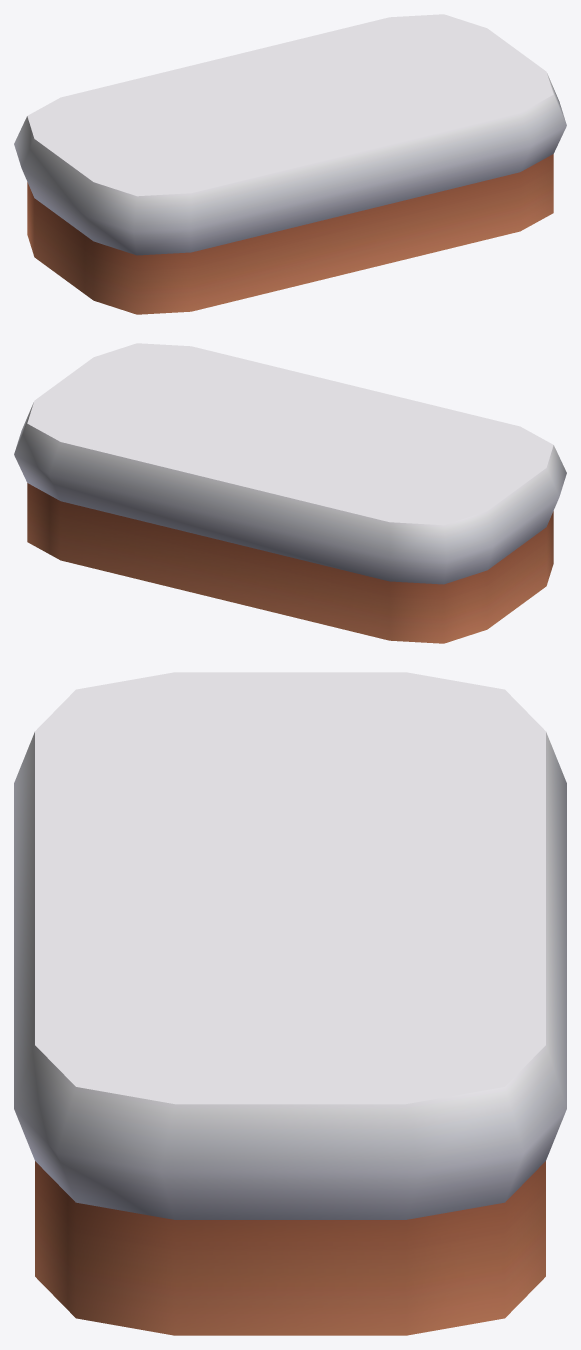
The model's file is kenney-platformer-block-snow-low-long.glb.
3 views of the same model, one above another, from view 1: azimuth 30°, elevation 25°; view 2: azimuth 150°, elevation 25°; view 3: azimuth 270°, elevation 25° (orthographic). The views are drawn at different scales.
Parts seen in each view (by area): view 1: block-snow-low-long; view 2: block-snow-low-long; view 3: block-snow-low-long.
Part boxes in pixels (bbox=[...]): block-snow-low-long: bbox=[14, 14, 566, 314]; block-snow-low-long: bbox=[14, 343, 566, 643]; block-snow-low-long: bbox=[14, 672, 566, 1335].
Bounding box in the file's own units: 2.08 × 0.5 × 1.08.
Materials: 1 (1 with a texture image).
